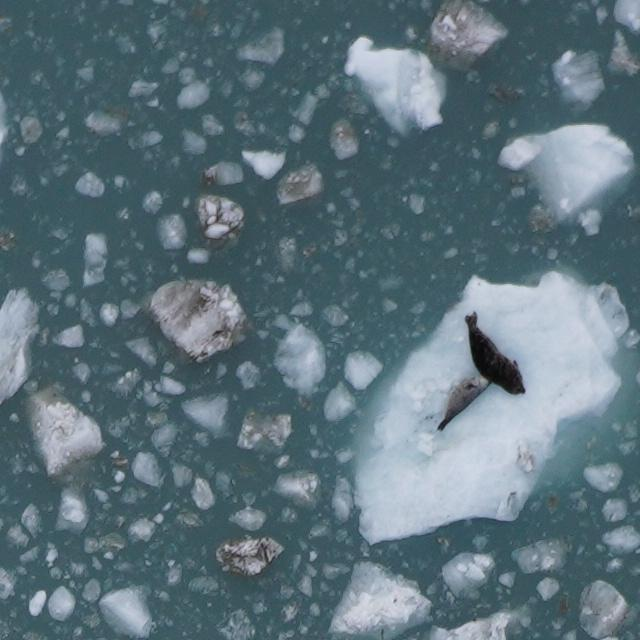seal: (460, 308, 530, 399), (434, 371, 499, 436)
